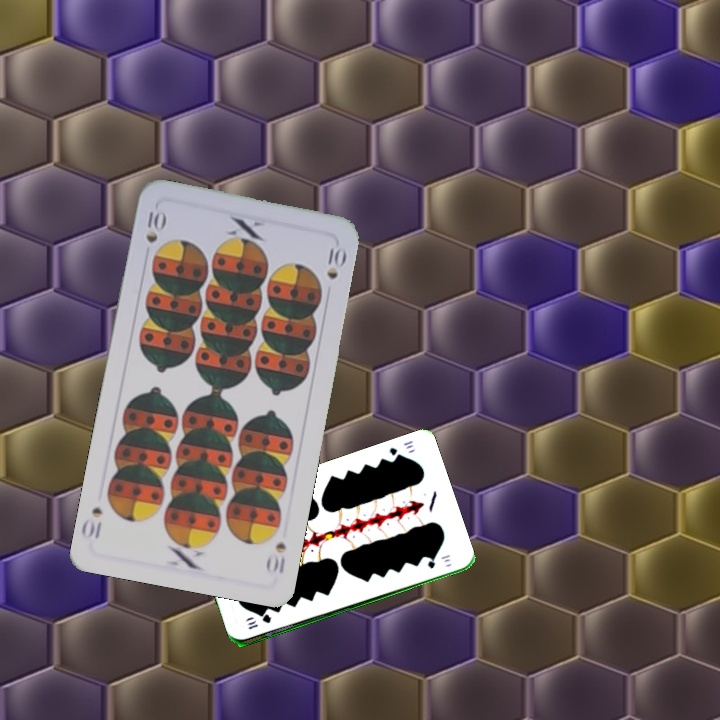G10: (385, 437, 416, 462), (244, 612, 274, 632)
S10: (262, 537, 288, 578), (142, 205, 168, 245)
